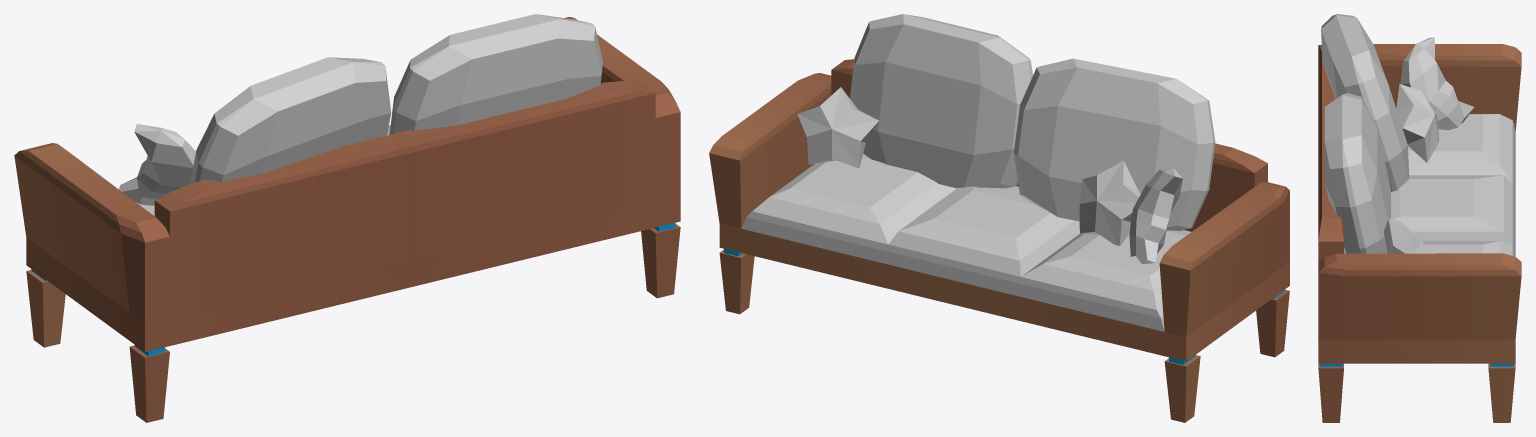
File: Prop_Sofa_Modern04.fbx
3 renders of one model, left to right at view 1: azimuth 30°, elevation 25°; view 2: azimuth 150°, elevation 25°; view 3: azimuth 270°, elevation 25°, orthographic. The views are drawn at different scales.
Visible parts, largest first — view 1: Sofa_OrangeStars; view 2: Sofa_OrangeStars; view 3: Sofa_OrangeStars.
Boxes of the visible parts, x1,y1,x2,y2 form: Sofa_OrangeStars: (14, 14, 680, 422); Sofa_OrangeStars: (709, 14, 1289, 422); Sofa_OrangeStars: (1318, 14, 1521, 422).
Size of the model in its own units: 143 by 72.75 by 54.84.
